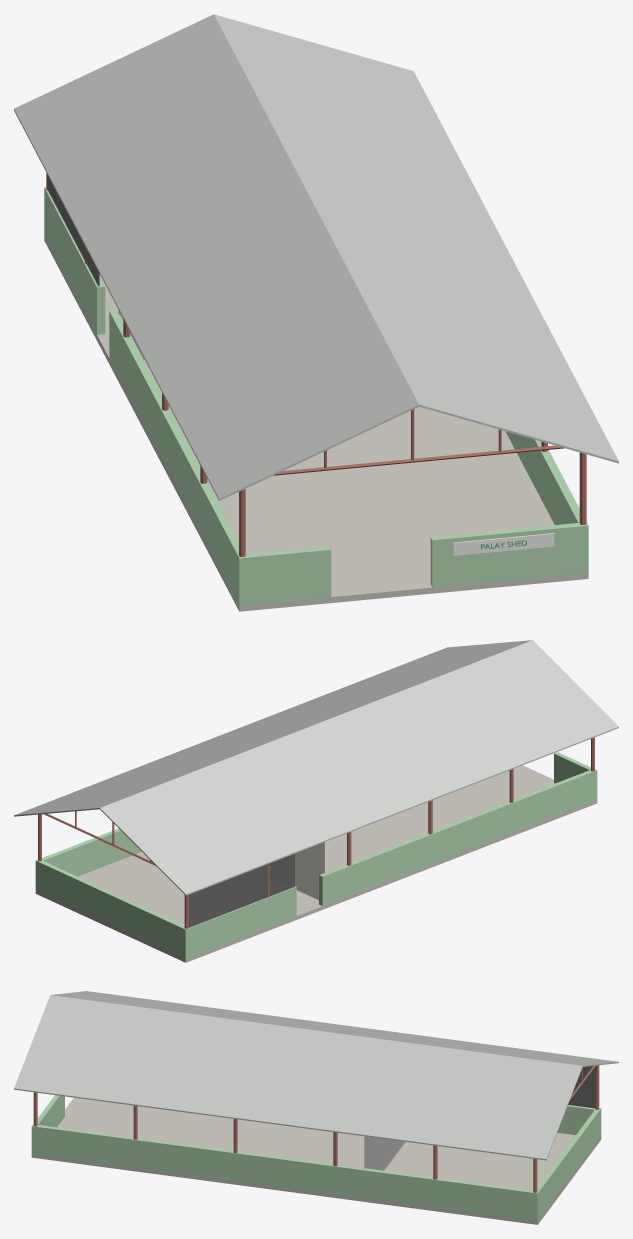
The model's file is rares_palay_shed.glb.
3 renders of one model, top to bottom at view 1: azimuth 30°, elevation 25°; view 2: azimuth 150°, elevation 25°; view 3: azimuth 270°, elevation 25°, orthographic. The views are drawn at different scales.
Visible parts, largest first — view 1: Corrugated_Gable_Roof, Concrete_Floor_Slab, Mint_Green_HalfWalls, Steel_Columns_Trusses, Palay_Sign_Board, Rear_Shade_Netting; view 2: Corrugated_Gable_Roof, Mint_Green_HalfWalls, Concrete_Floor_Slab, Rear_Shade_Netting, Steel_Columns_Trusses, Interior_Wire_Partition; view 3: Corrugated_Gable_Roof, Mint_Green_HalfWalls, Concrete_Floor_Slab, Steel_Columns_Trusses, Interior_Wire_Partition, Rear_Shade_Netting.
Boxes of the visible parts, left/top/right/bottom form: Corrugated_Gable_Roof: left=14, top=14, right=618, bottom=500; Concrete_Floor_Slab: left=44, top=235, right=588, bottom=611; Mint_Green_HalfWalls: left=44, top=187, right=588, bottom=605; Steel_Columns_Trusses: left=46, top=173, right=586, bottom=556; Palay_Sign_Board: left=453, top=533, right=554, bottom=555; Rear_Shade_Netting: left=48, top=176, right=99, bottom=286; Corrugated_Gable_Roof: left=14, top=640, right=618, bottom=895; Mint_Green_HalfWalls: left=35, top=752, right=597, bottom=958; Concrete_Floor_Slab: left=35, top=765, right=597, bottom=962; Rear_Shade_Netting: left=188, top=853, right=294, bottom=927; Steel_Columns_Trusses: left=38, top=737, right=594, bottom=928; Interior_Wire_Partition: left=295, top=842, right=324, bottom=900; Corrugated_Gable_Roof: left=14, top=991, right=618, bottom=1160; Mint_Green_HalfWalls: left=31, top=1095, right=601, bottom=1221; Concrete_Floor_Slab: left=31, top=1097, right=601, bottom=1224; Steel_Columns_Trusses: left=33, top=1065, right=599, bottom=1192; Interior_Wire_Partition: left=364, top=1136, right=405, bottom=1170; Rear_Shade_Netting: left=568, top=1066, right=595, bottom=1108.
Size of the model in its own units: 14.33 by 4.7 by 21.78.
